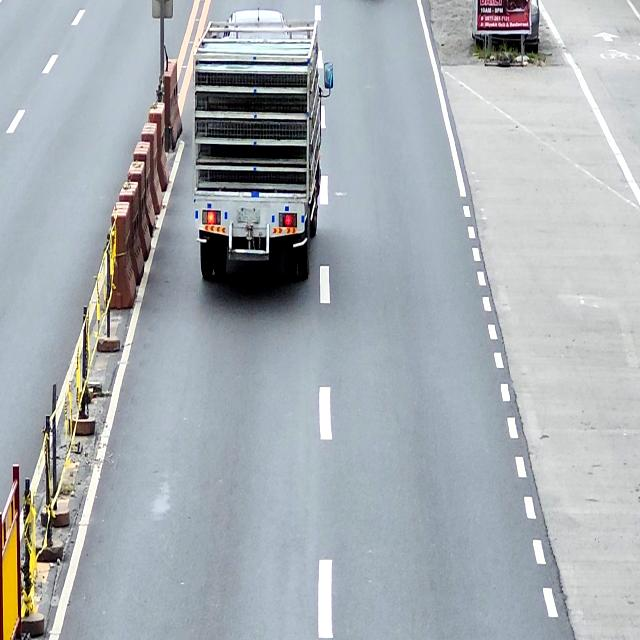License-Plate: (236, 207, 261, 225)
Truck: (194, 9, 334, 281)
